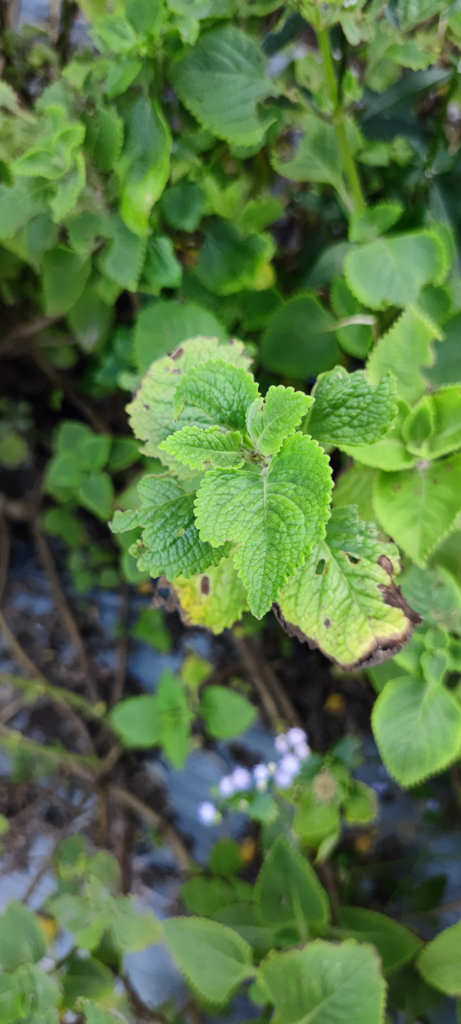Pepper yellow leaf: (164, 568, 244, 643)
